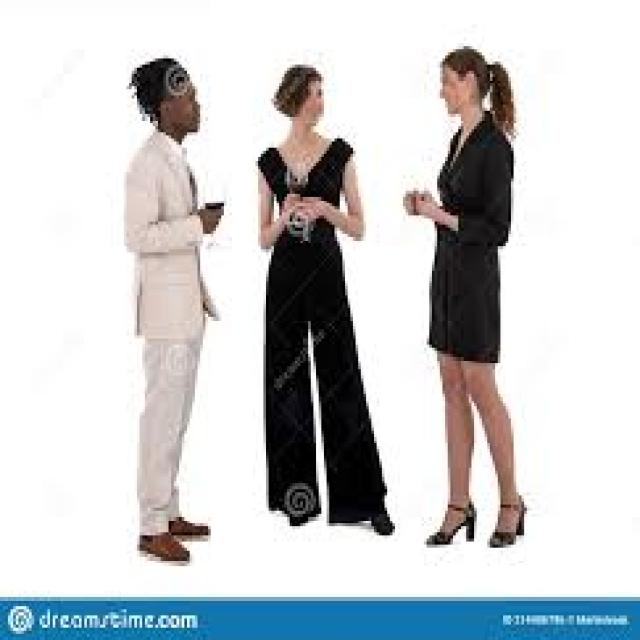standing: (252, 64, 400, 538), (401, 45, 528, 551), (117, 54, 231, 570)
